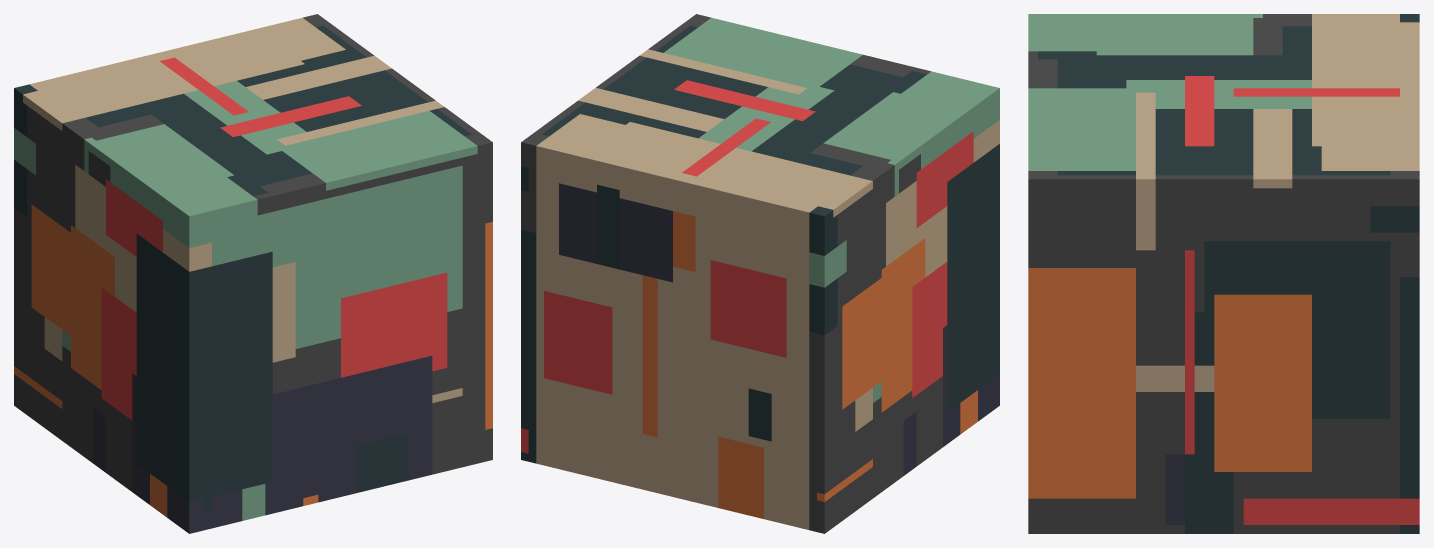
The model's file is debug-cube.obj.
3 views of the same model, side by side, from view 1: azimuth 30°, elevation 25°; view 2: azimuth 150°, elevation 25°; view 3: azimuth 270°, elevation 25° (orthographic). The views are drawn at different scales.
Size of the model in its own units: 4 by 4 by 4.
